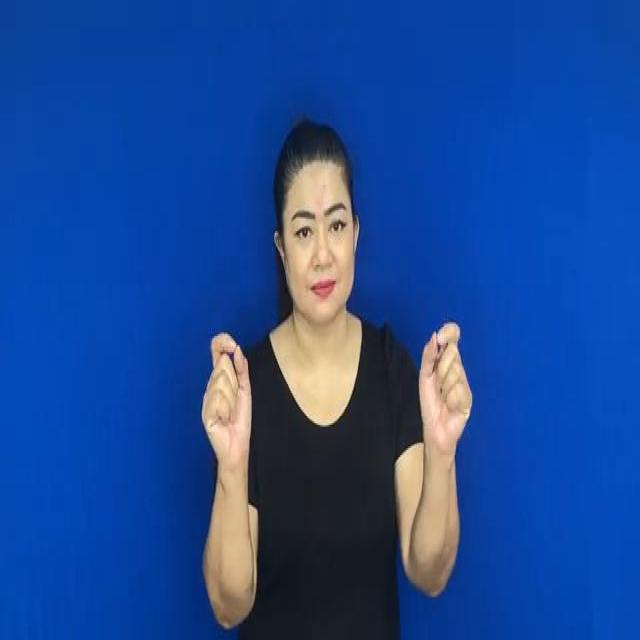crab: (187, 310, 266, 484), (408, 314, 488, 482)
